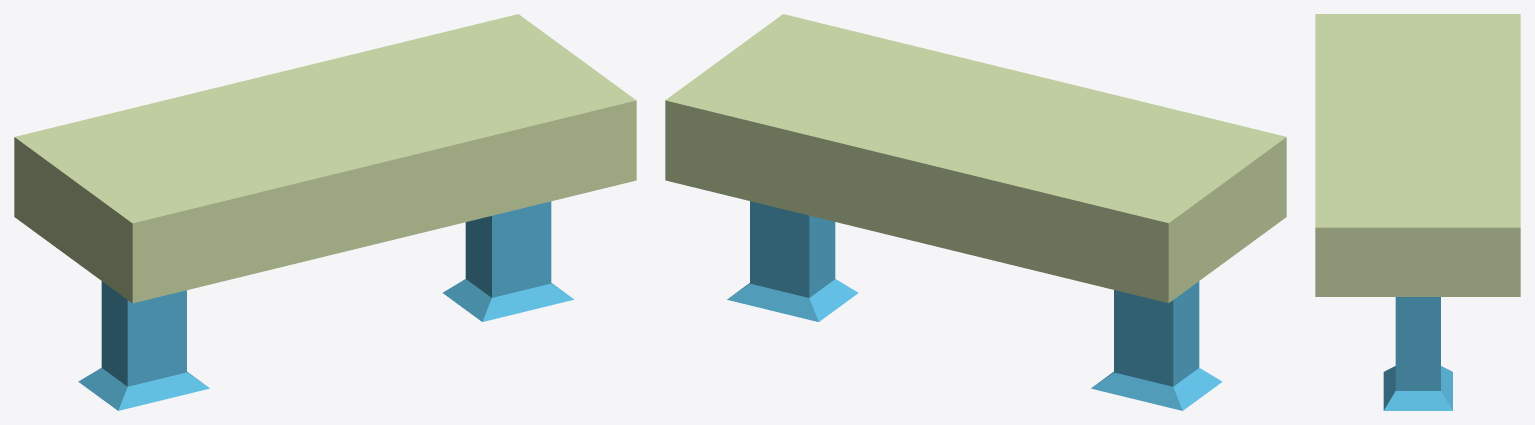
File: bench.fbx
3 views of the same model, side by side, from view 1: azimuth 30°, elevation 25°; view 2: azimuth 150°, elevation 25°; view 3: azimuth 270°, elevation 25° (orthographic). The views are drawn at different scales.
Parts seen in each view (by area): view 1: pCube43, pCube44, pCube45; view 2: pCube43, pCube44, pCube45; view 3: pCube43, pCube45.
Part boxes in pixels (x1=…): pCube43: x1=14, y1=14, x2=636, y2=303; pCube44: x1=78, y1=281, x2=209, y2=410; pCube45: x1=442, y1=201, x2=573, y2=321; pCube43: x1=665, y1=14, x2=1286, y2=303; pCube44: x1=1091, y1=281, x2=1222, y2=410; pCube45: x1=727, y1=201, x2=858, y2=321; pCube43: x1=1315, y1=14, x2=1520, y2=296; pCube45: x1=1383, y1=297, x2=1452, y2=410.
Bounding box in the file's own units: 6.59 × 2.78 × 2.67.
